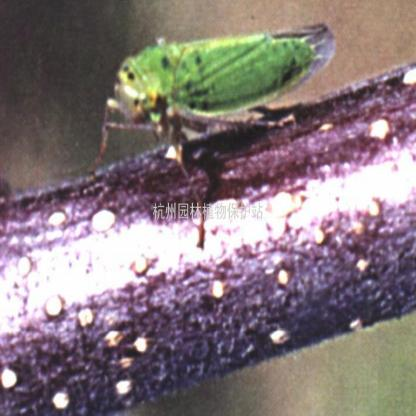Green-Leafhopper: (95, 24, 344, 162)
